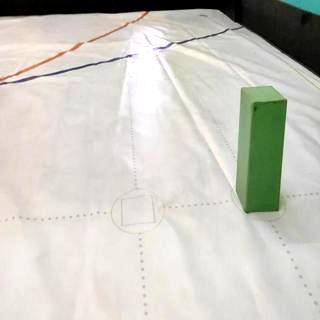greenbox: (238, 85, 290, 213)
